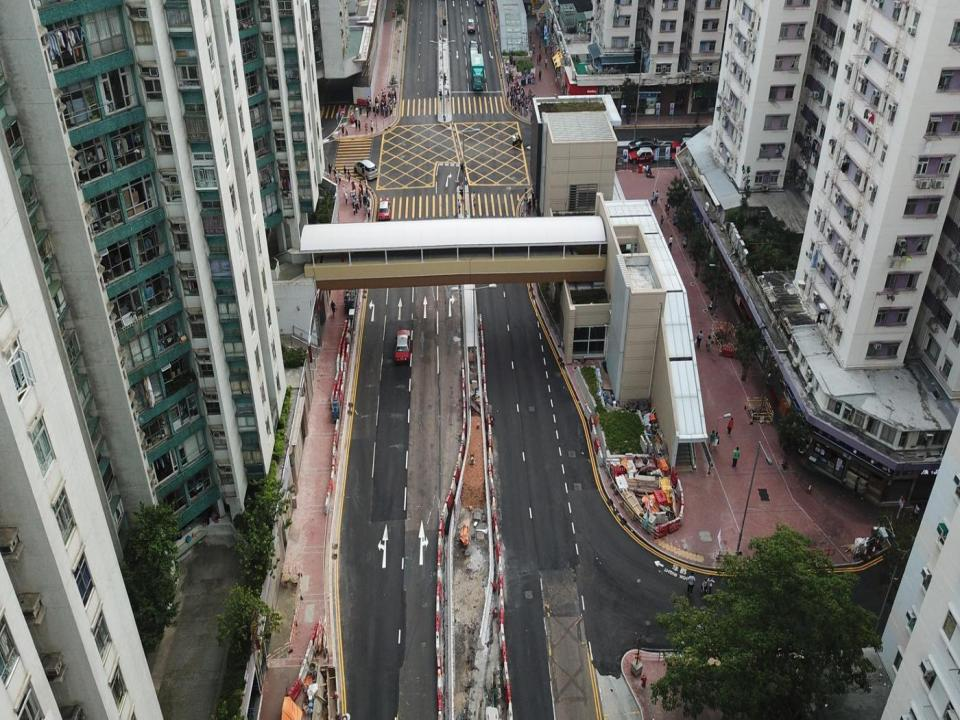car: (393, 328, 412, 363), (354, 160, 378, 180), (629, 147, 657, 162), (629, 138, 655, 154), (672, 138, 699, 151), (377, 197, 391, 221), (467, 17, 476, 34), (468, 40, 476, 57)
truck: (470, 53, 486, 90)
